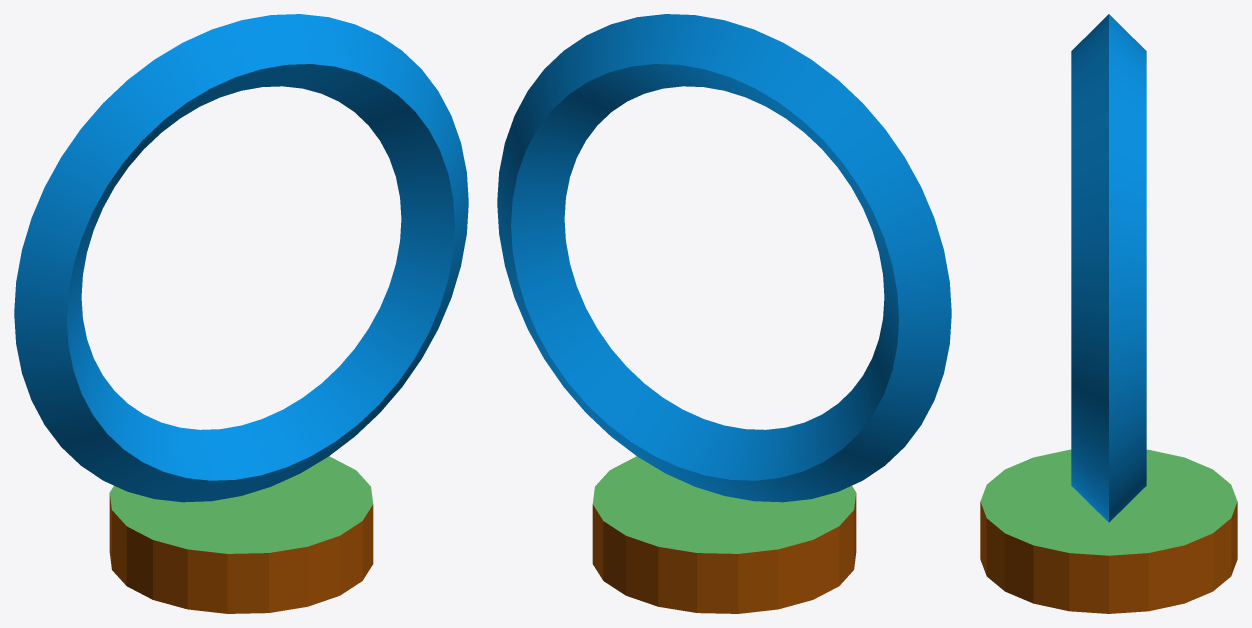
File: CheckpointMarker.fbx
The picture shows the model from 3 angles, left to right: view 1: azimuth 30°, elevation 25°; view 2: azimuth 150°, elevation 25°; view 3: azimuth 270°, elevation 25°; orthographic projection. The views are drawn at different scales.
Parts seen in each view (by area): view 1: CheckpointMarker; view 2: CheckpointMarker; view 3: CheckpointMarker.
Part boxes in pixels (x1,y1,x2,y2): CheckpointMarker: (14,14,468,613); CheckpointMarker: (497,14,951,613); CheckpointMarker: (980,14,1237,613).
Size of the model in its own units: 158 by 179 by 80.
